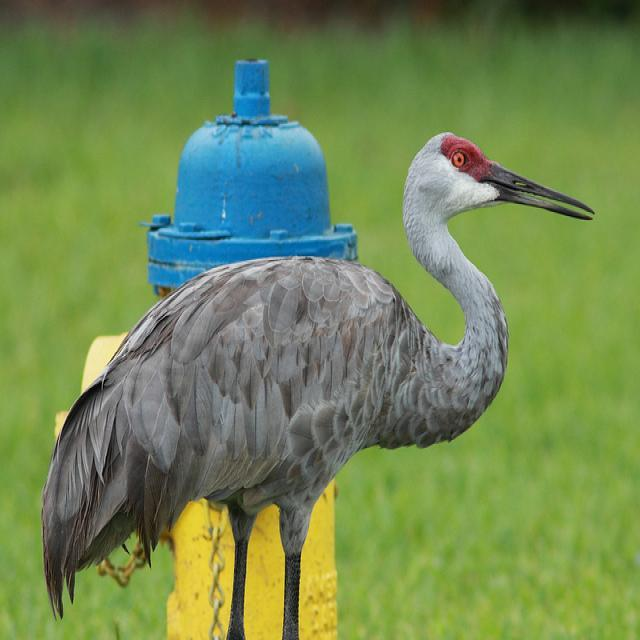fire_hydrant: (55, 59, 358, 438)
